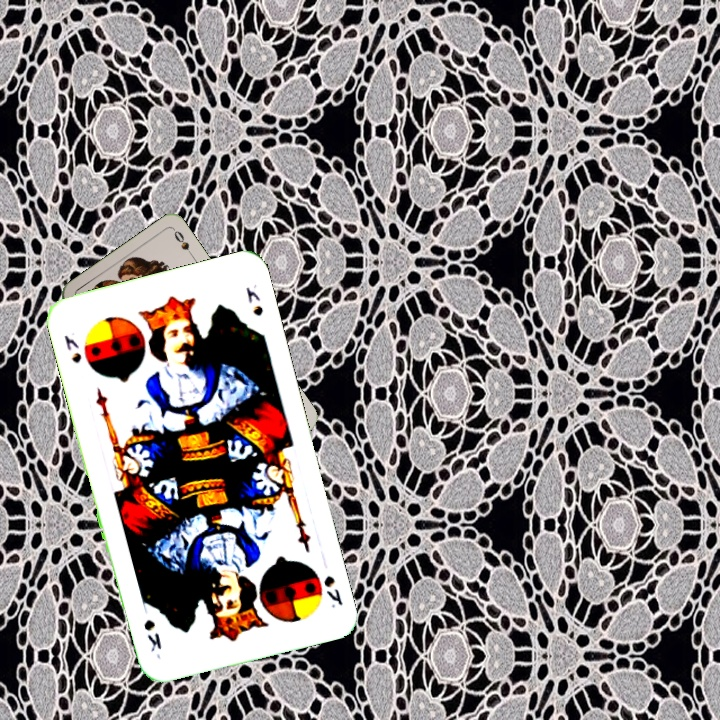SK: (320, 571, 346, 610), (60, 331, 84, 366)
